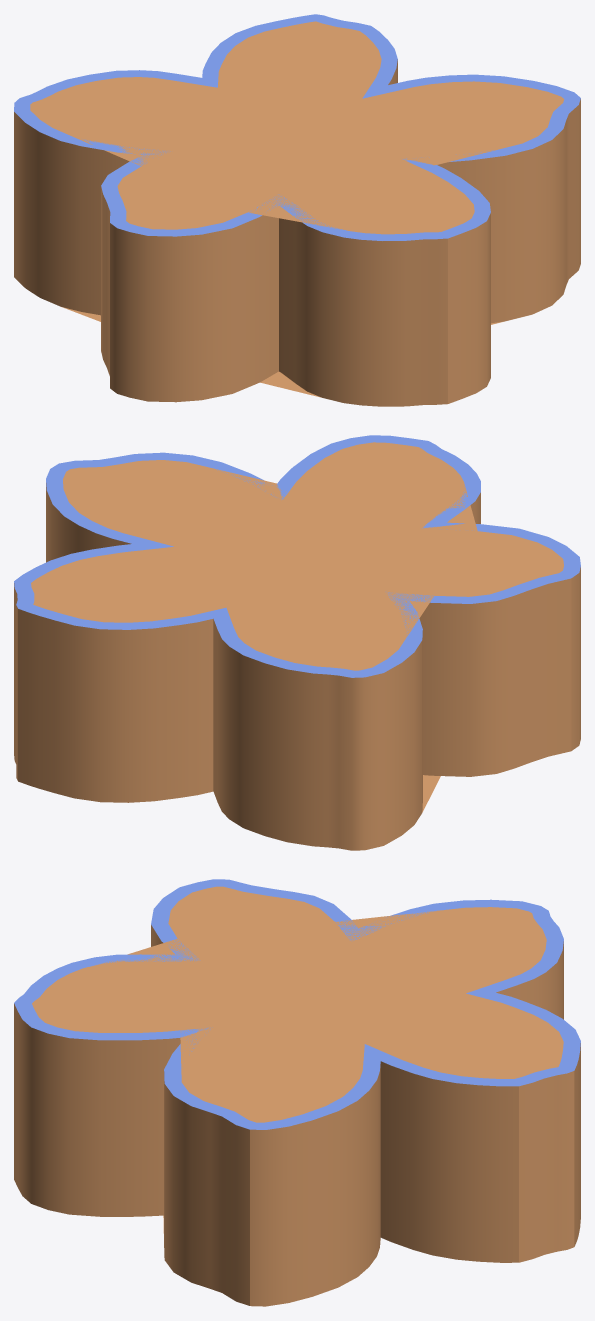
File: NutFloor.fbx
3 renders of one model, top to bottom at view 1: azimuth 30°, elevation 25°; view 2: azimuth 150°, elevation 25°; view 3: azimuth 270°, elevation 25°, orthographic. The views are drawn at different scales.
Visible parts, largest first — view 1: NutFloor; view 2: NutFloor; view 3: NutFloor.
Part boxes in pixels (<box>): NutFloor: <box>14,14,580,406</box>; NutFloor: <box>14,435,580,850</box>; NutFloor: <box>14,879,580,1306</box>.
Size of the model in its own units: 151 by 49.68 by 145.
